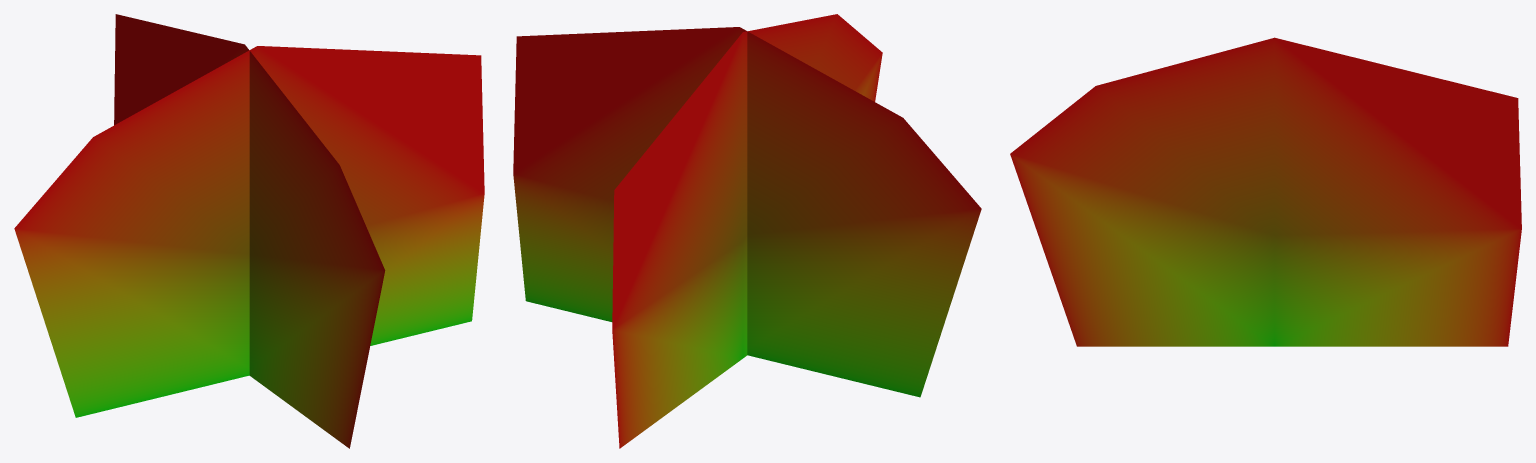
The model's file is Kikuyu Grass_LOD6_Var3_wiljearqx.fbx.
3 renders of one model, left to right at view 1: azimuth 30°, elevation 25°; view 2: azimuth 150°, elevation 25°; view 3: azimuth 270°, elevation 25°, orthographic. The views are drawn at different scales.
Parts seen in each view (by area): view 1: _s8vs_Var3_LOD6; view 2: _s8vs_Var3_LOD6; view 3: _s8vs_Var3_LOD6.
Boxes of the visible parts, box(x1,y1,x2,y2) form: _s8vs_Var3_LOD6: box(14, 14, 484, 448); _s8vs_Var3_LOD6: box(513, 14, 981, 448); _s8vs_Var3_LOD6: box(1010, 37, 1521, 346).
Size of the model in its own units: 78.73 by 52.42 by 78.73.
